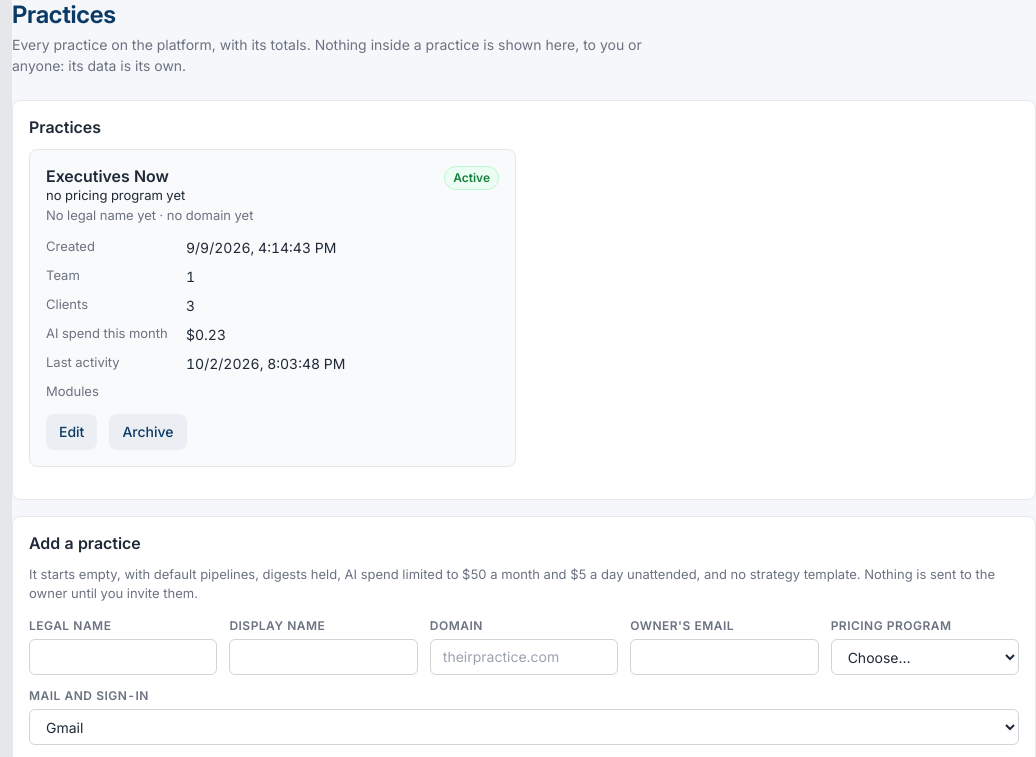
Test: the Practices area (P2) › adds a practice with the five details, and says the owner is not invited yet
Expected: the heading "Executives Now" is shown, [46, 166, 169, 186]
Type "Blue Sky Business Consulting LLC" into the field named "Legal name". click: (123,656)
box: [29, 638, 217, 674]
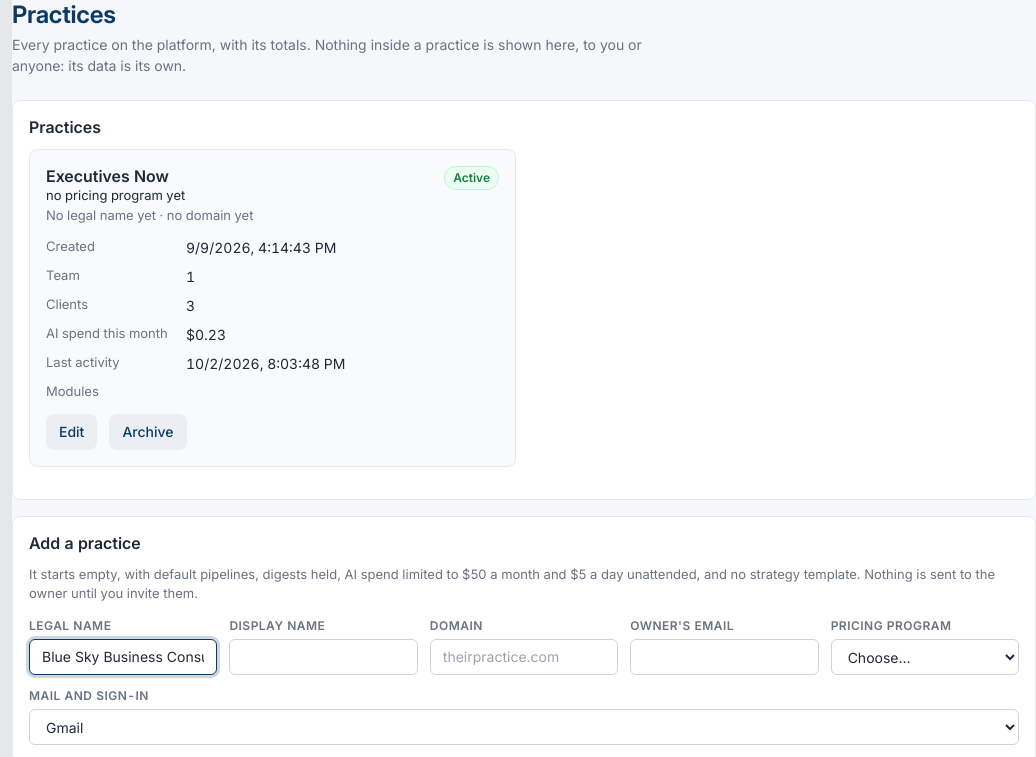
Type "Blue Sky Business Consulting" into the field named "Display name". click: (324,656)
box: [229, 638, 418, 674]
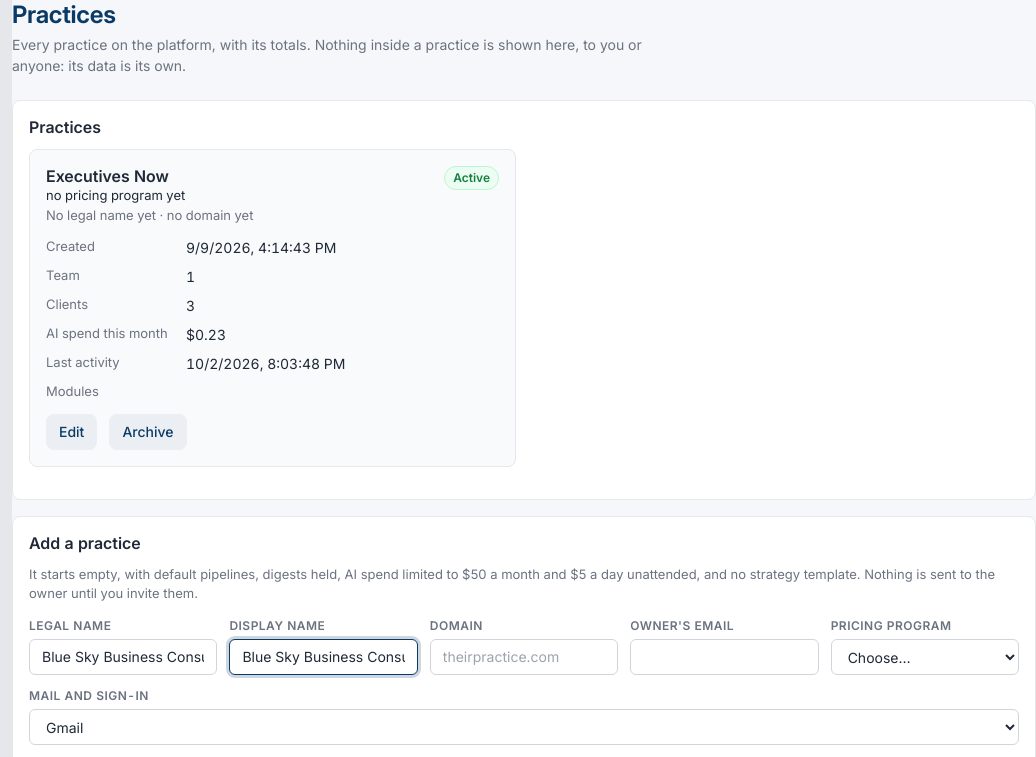
Type "blueskybizconsulting.com" into the field named "Domain". click: (524,656)
box: [430, 638, 618, 674]
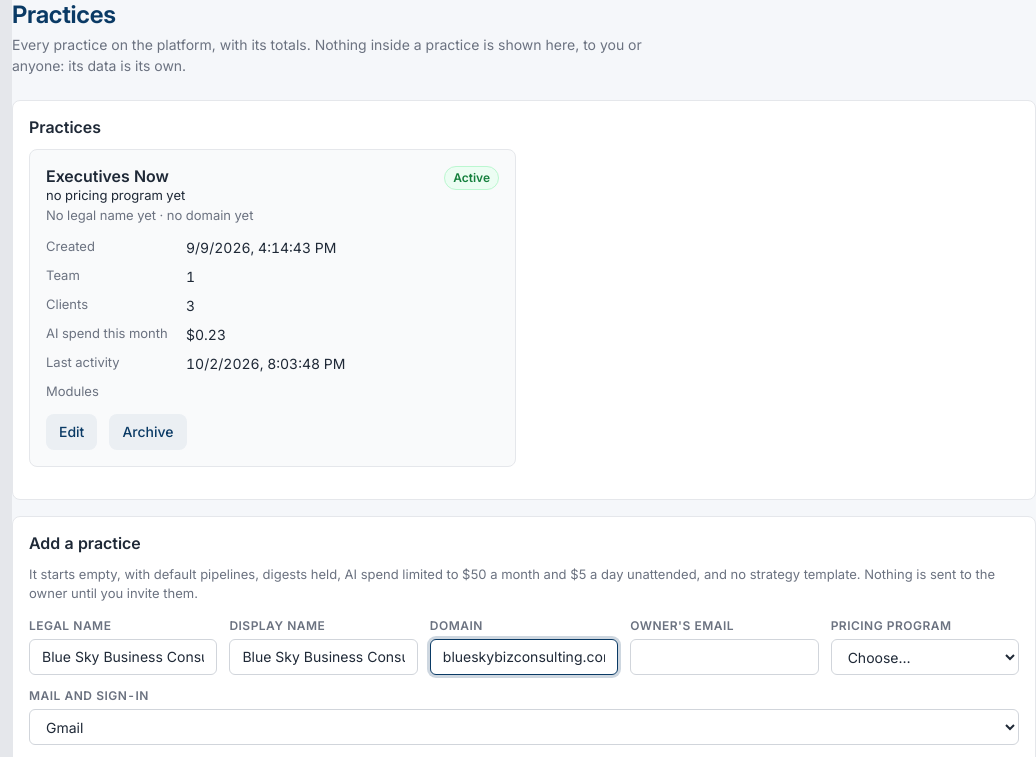
Type "shawn@bluesky.invalid" into the field named "Owner's email". click: (724,656)
box: [630, 638, 819, 674]
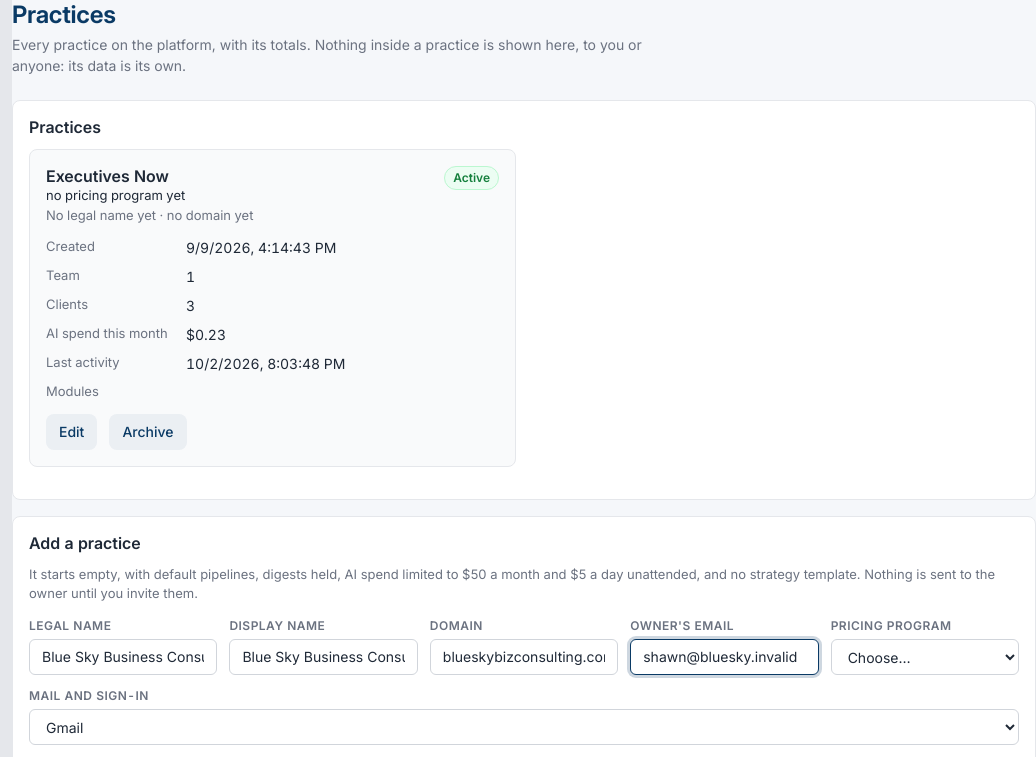
Select "Dual pricing" in the dropdown named "Pricing program". click: (925,656)
box: [831, 638, 1019, 674]
(page scrolled)
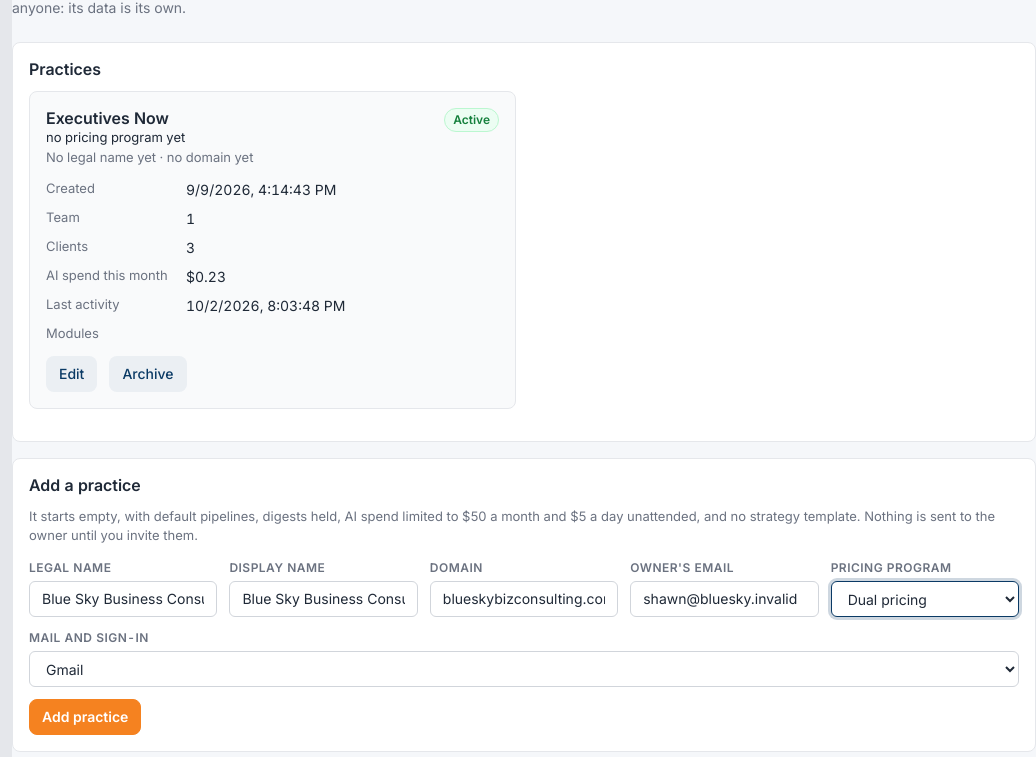
Click the button "Add practice". click: (85,716)
box: [29, 698, 141, 734]
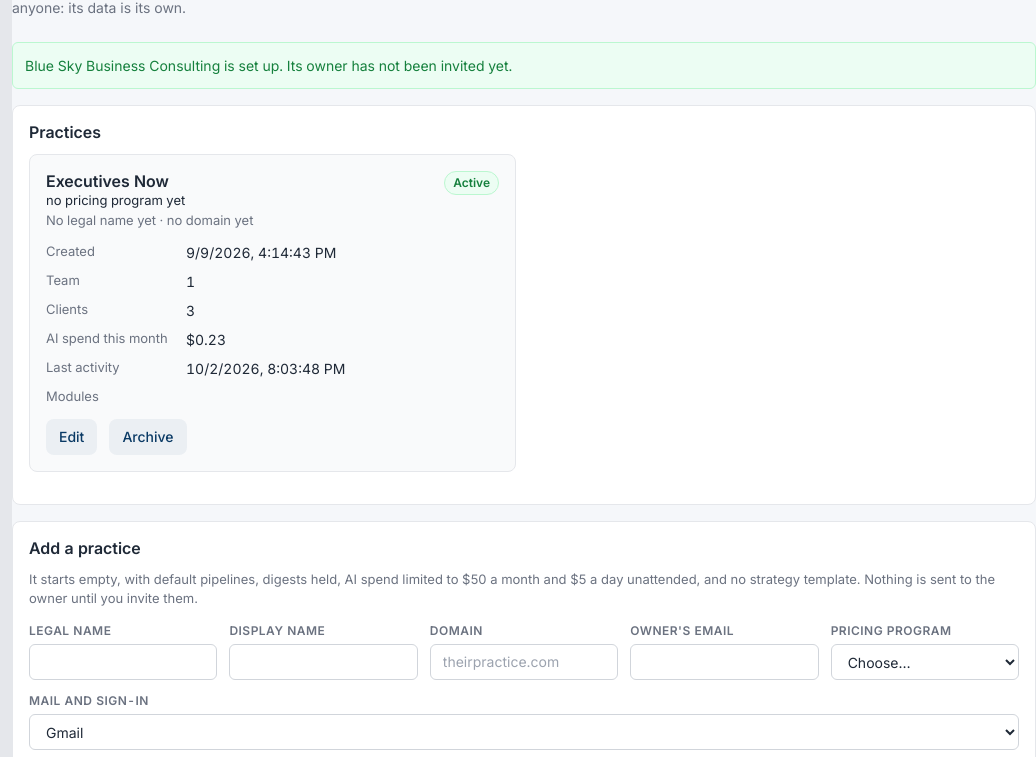
Expected: the text "Its owner has not been invited yet" is shown, [25, 57, 512, 74]
